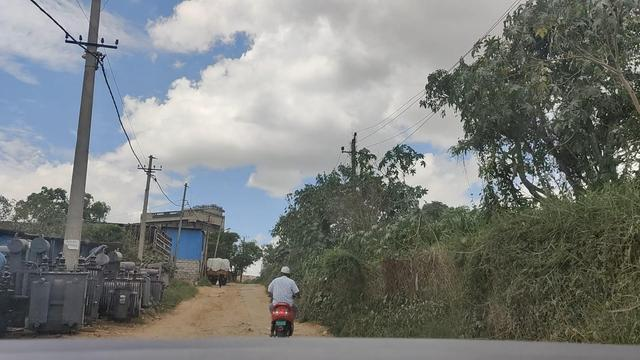HMV: (202, 254, 236, 294)
UnsurfacedRoad: (176, 302, 261, 340)
